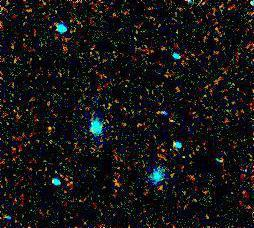star: (50, 32, 80, 62)
